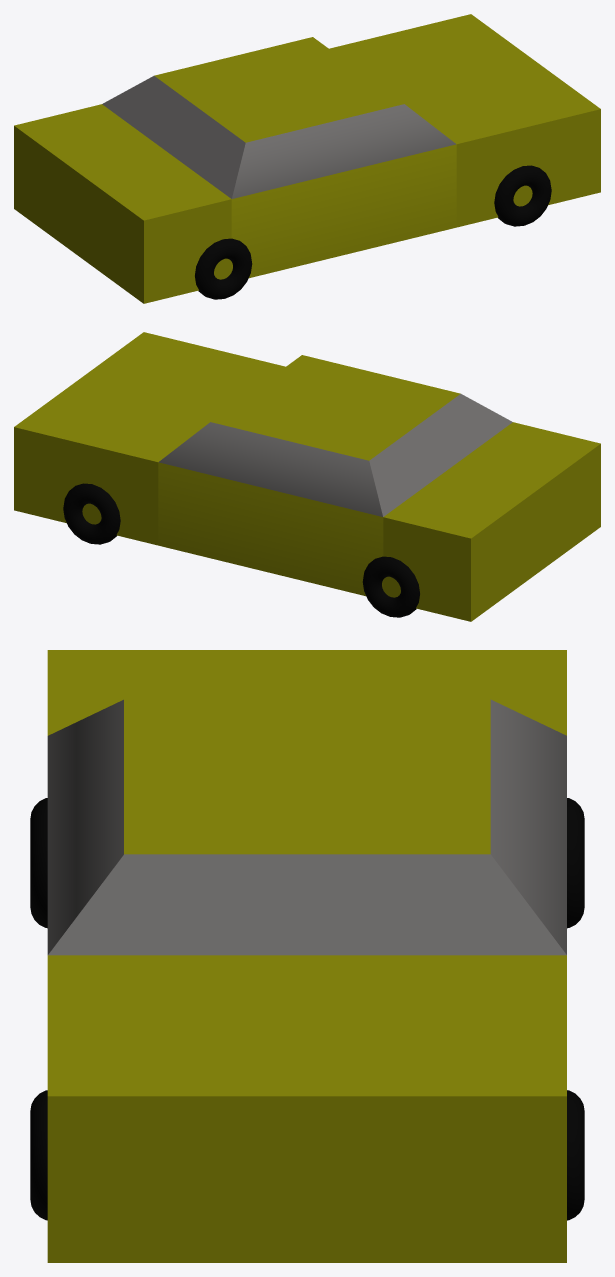
Rendered from Yellow Car.fbx.
The picture shows the model from 3 angles, top to bottom: view 1: azimuth 30°, elevation 25°; view 2: azimuth 150°, elevation 25°; view 3: azimuth 270°, elevation 25°; orthographic projection. The views are drawn at different scales.
Visible parts, largest first — view 1: pTorus6; view 2: pTorus6; view 3: pTorus6.
Part boxes in pixels (<box>): pTorus6: <box>14,14,600,303</box>; pTorus6: <box>14,332,600,621</box>; pTorus6: <box>30,650,584,1262</box>.
Size of the model in its own units: 6.1 by 1.69 by 3.2.
